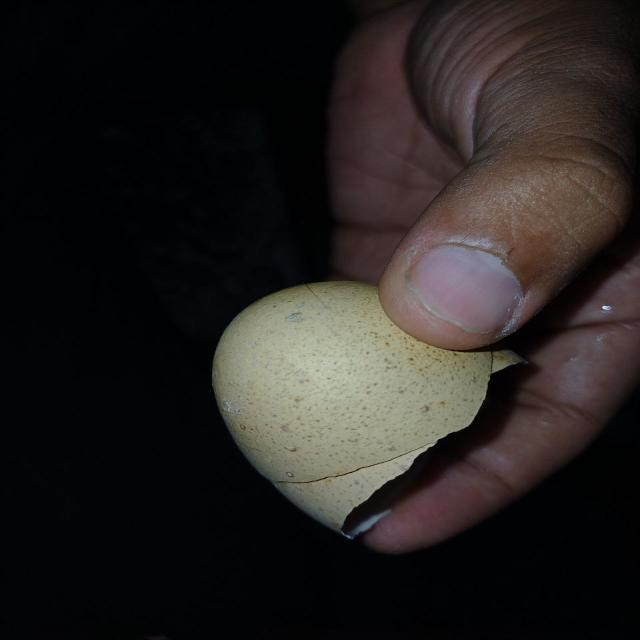organic: (212, 279, 536, 539)
